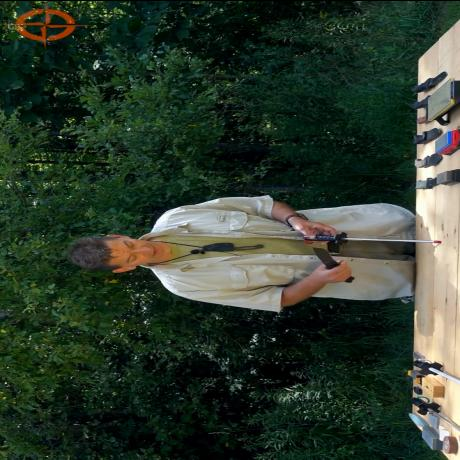1: (66, 194, 417, 310)
weapon: (414, 70, 448, 95), (310, 245, 342, 269), (412, 127, 442, 145), (412, 152, 442, 168), (414, 175, 438, 190)
